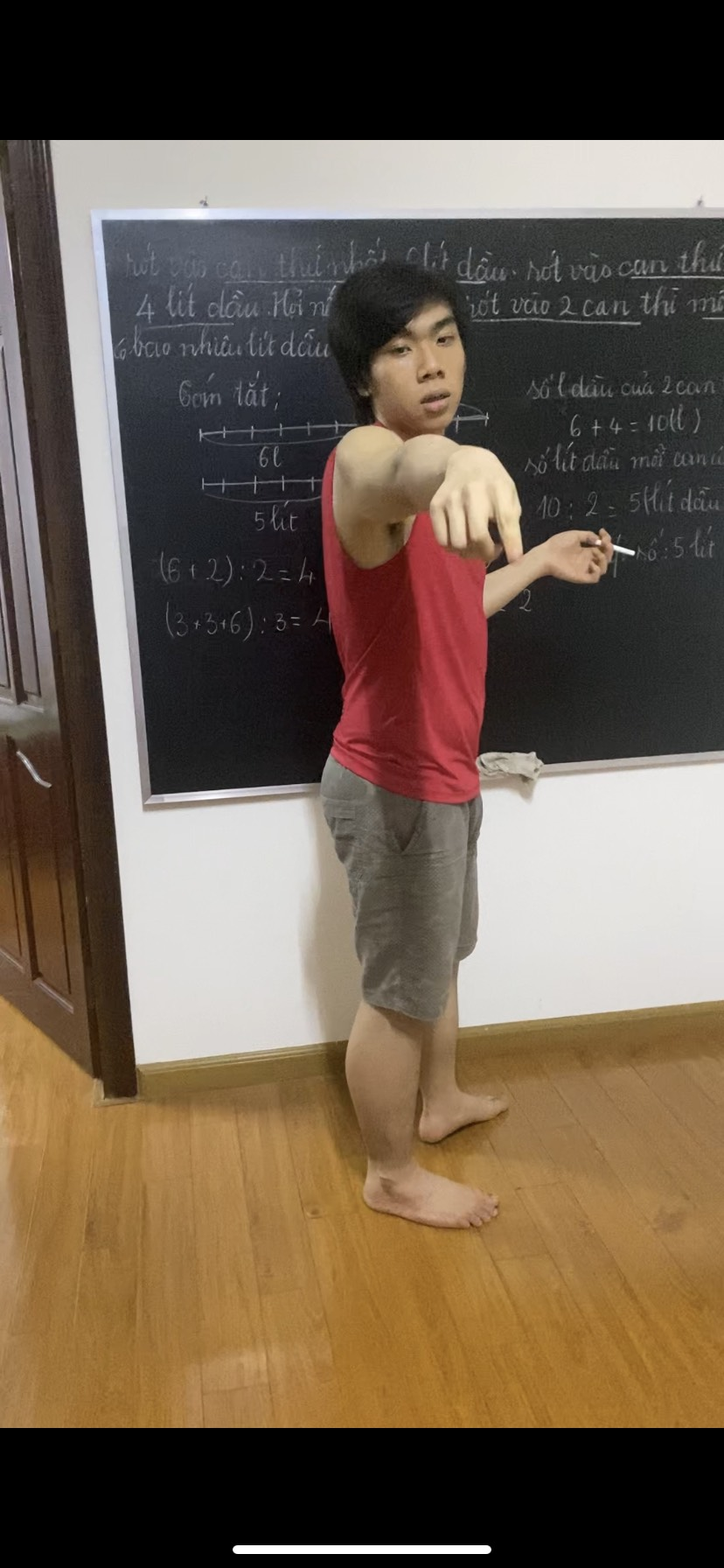cigarette: (612, 542, 639, 559)
person: (308, 236, 618, 1247)
